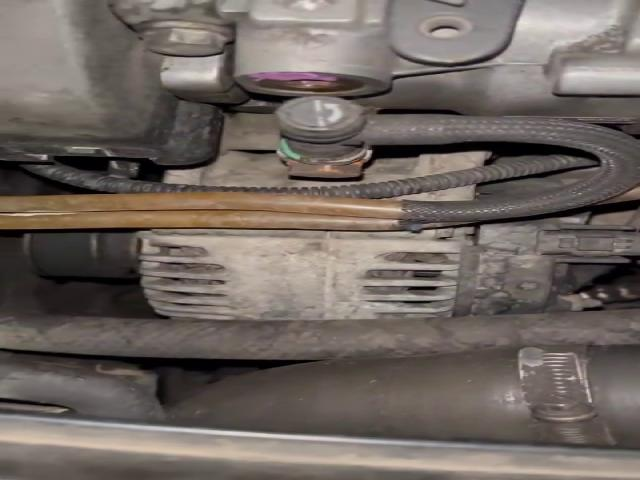alternator: (140, 208, 630, 321)
high_pressure_pump: (220, 2, 637, 120)
